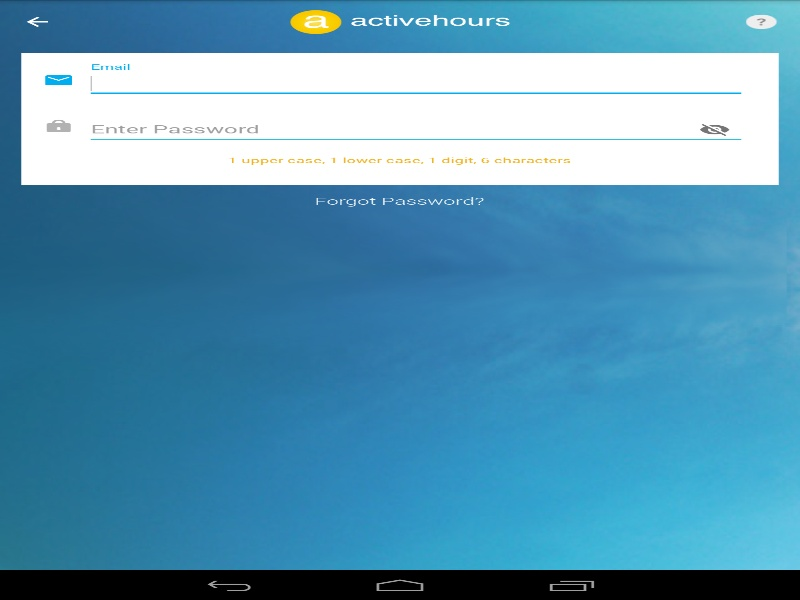Button: (682, 115, 746, 145)
Input: (85, 115, 746, 145), (85, 69, 746, 98)
